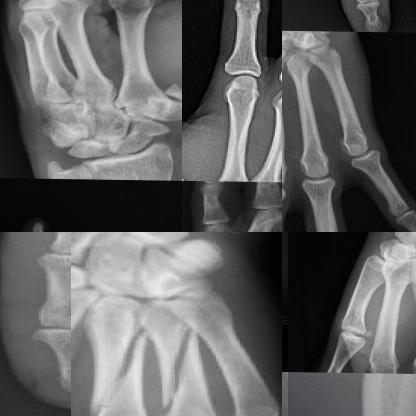fracture: (86, 319, 159, 415), (156, 318, 224, 415), (163, 78, 182, 107)
